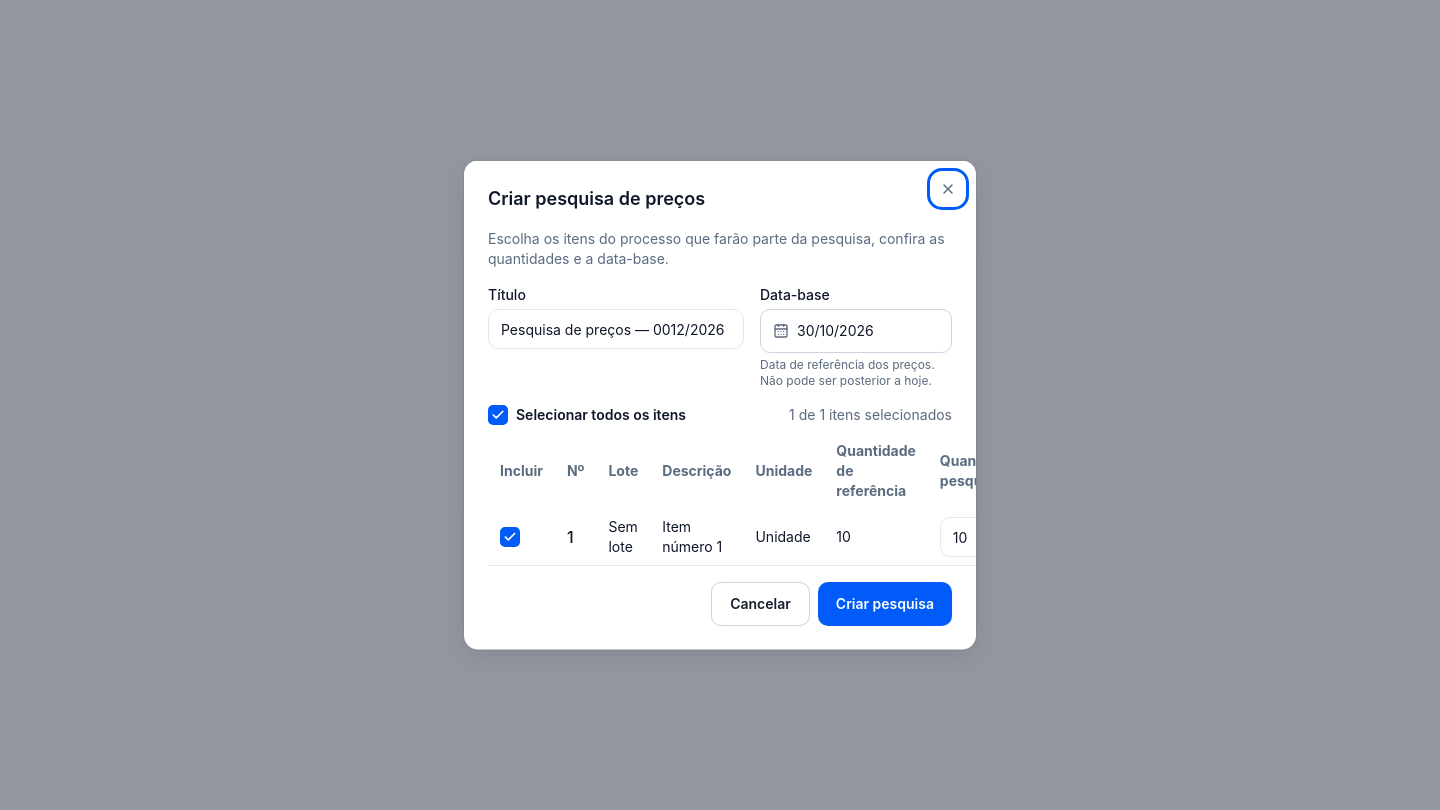
CreatePriceResearchDialog (US-024 · fluxo principal 2–7) › FA-01: 409 DOCUMENT_ALREADY_EXISTS oferece "Abrir pesquisa existente"
Click the button "Criar pesquisa": click(885, 604) left=818, top=582, right=952, bottom=626
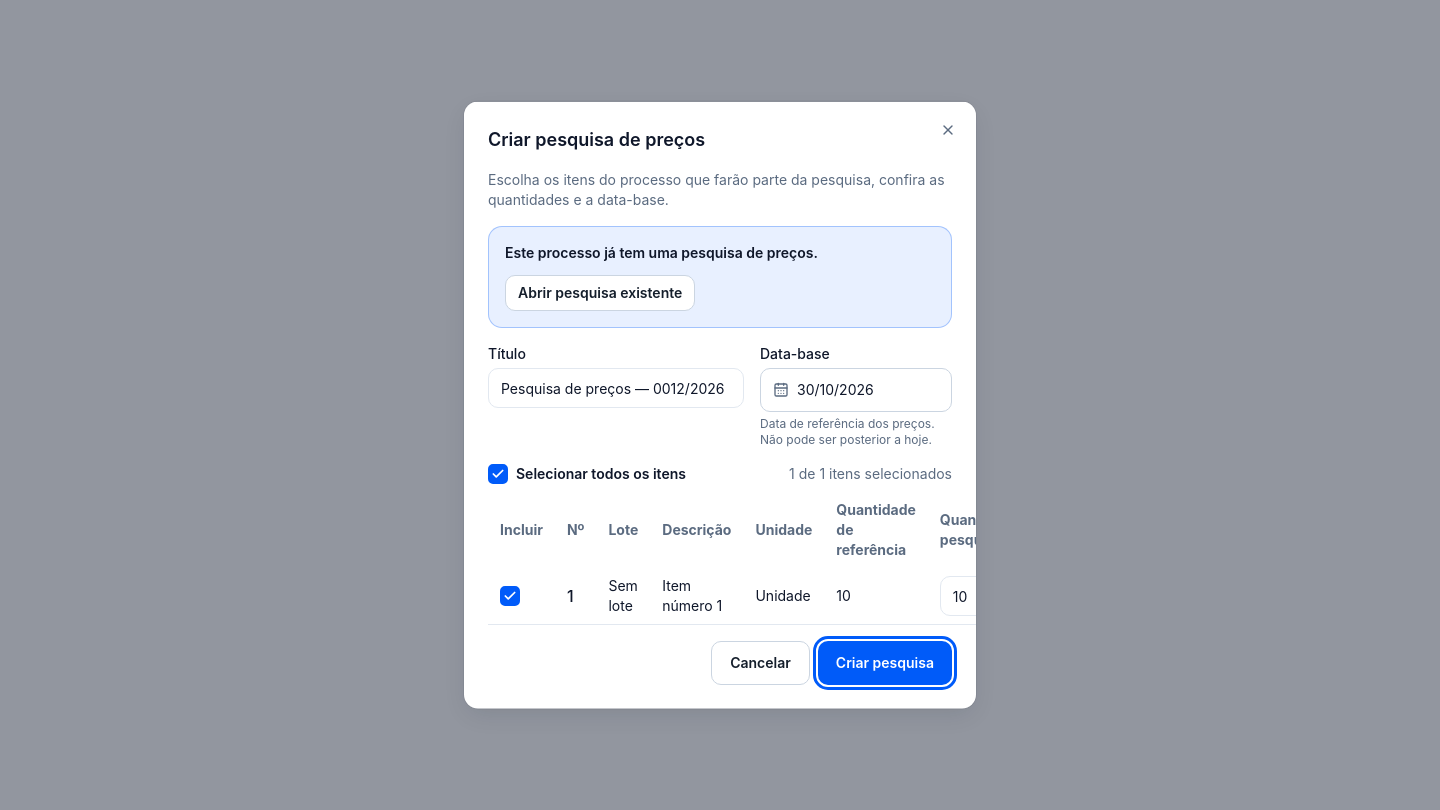
Now the text "Este processo já tem uma pesquisa de preços." is shown, box left=505, top=244, right=818, bottom=260
